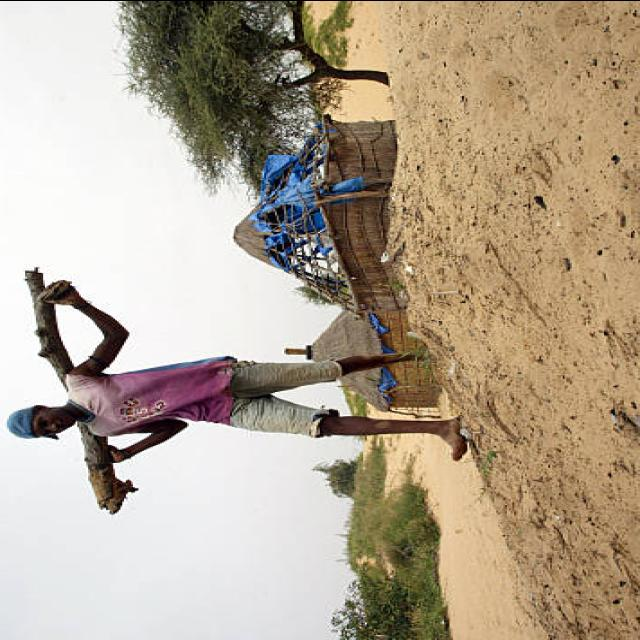civilian: (7, 280, 466, 460)
